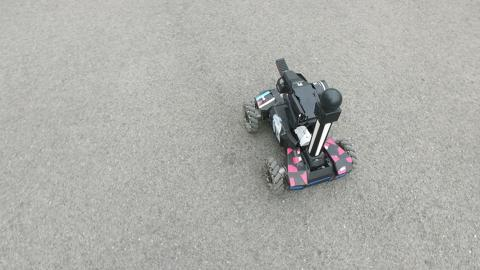chariot: (242, 58, 357, 195)
